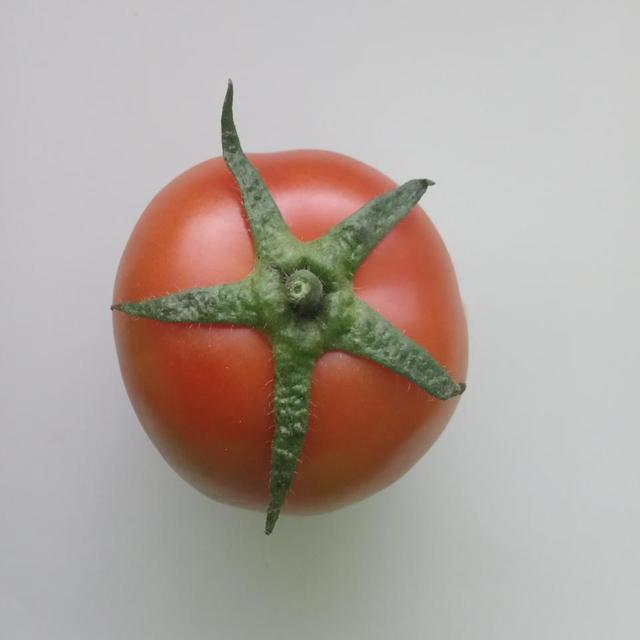Healthy Fruit: (67, 92, 319, 350)
